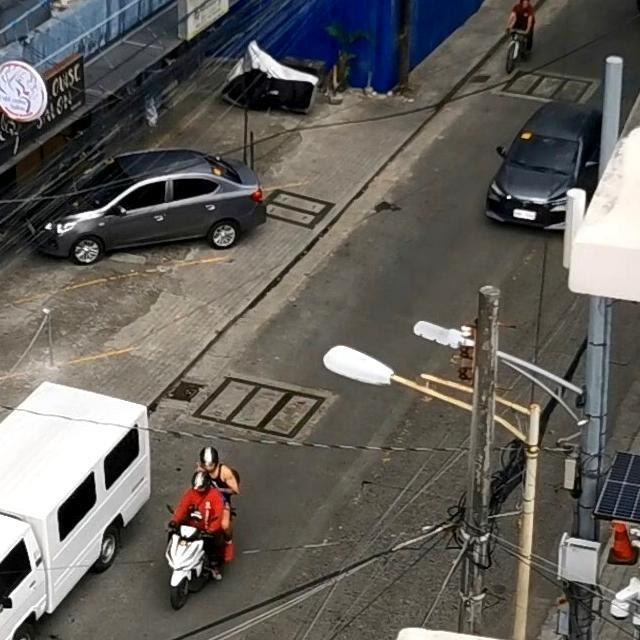Car: (0, 369, 159, 640), (28, 149, 260, 262), (482, 100, 598, 230)
